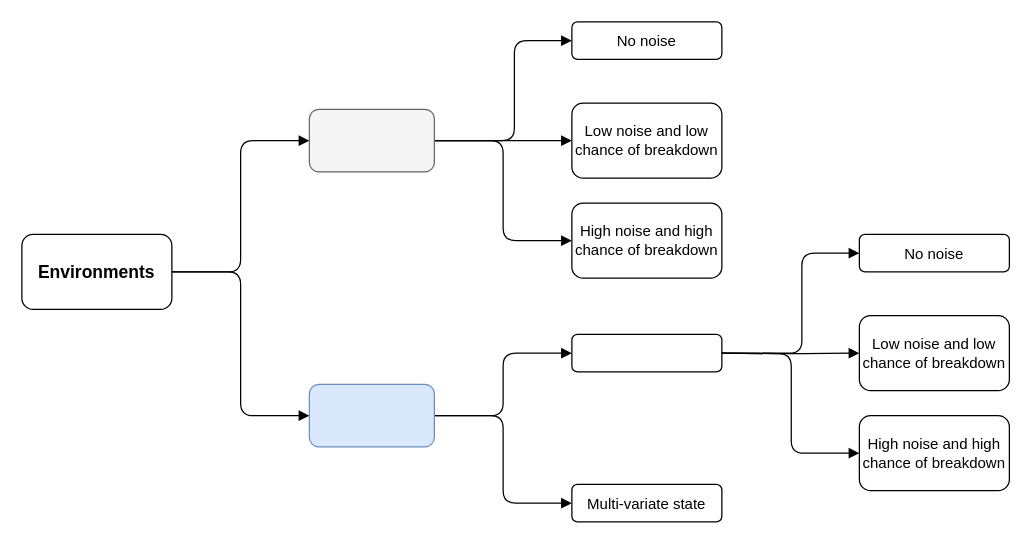
This 1031x544 diagram has some shape labels left out. Here are the shapes that lost their labels. From the top down, the centre of each, then its label:
At pixel 371 140: "Simulated".
At pixel 646 352: "Uni-variate state".
At pixel 371 415: "Real data".
